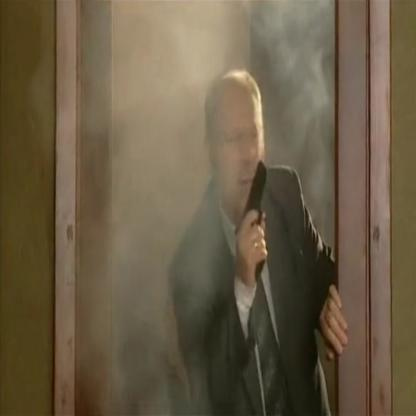gun: (239, 157, 272, 287)
